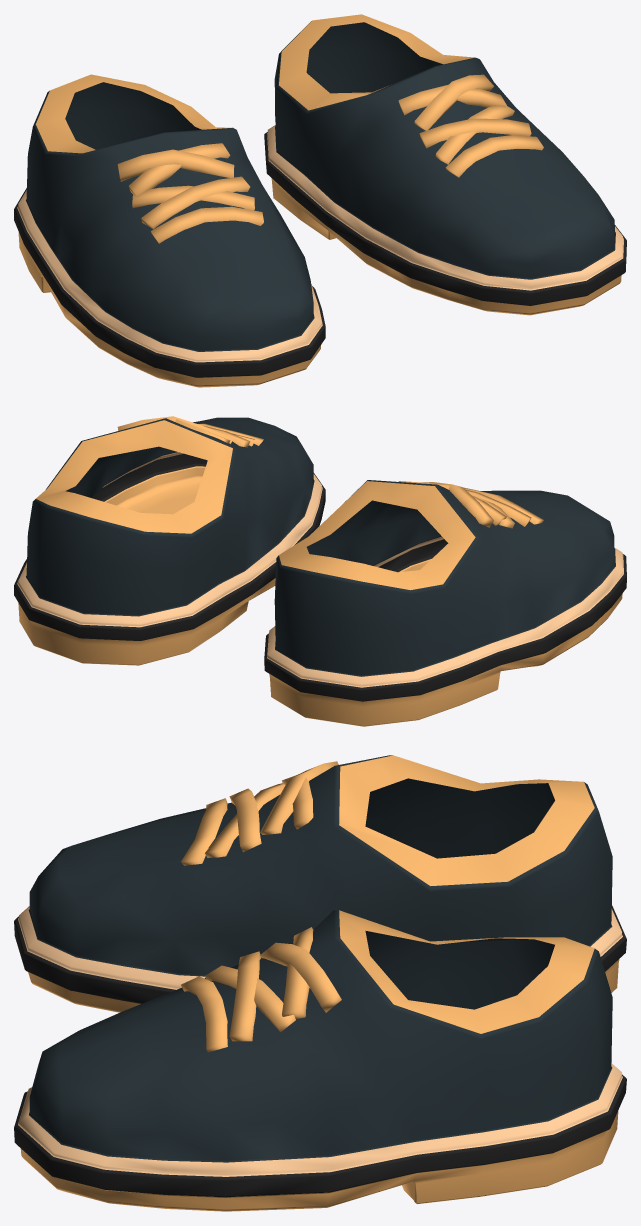
File: Shoe_Sneaker_004.glb
3 renders of one model, top to bottom at view 1: azimuth 30°, elevation 25°; view 2: azimuth 150°, elevation 25°; view 3: azimuth 270°, elevation 25°, orthographic. The views are drawn at different scales.
Parts seen in each view (by area): view 1: Shoe_Sneaker_004; view 2: Shoe_Sneaker_004; view 3: Shoe_Sneaker_004.
Boxes of the visible parts, x1,y1,x2,y2 form: Shoe_Sneaker_004: (14,14,626,387); Shoe_Sneaker_004: (14,416,626,726); Shoe_Sneaker_004: (14,755,626,1211).
Size of the model in its own units: 0.4328 by 0.1332 by 0.3551.
Materials: 1 (1 with a texture image).
